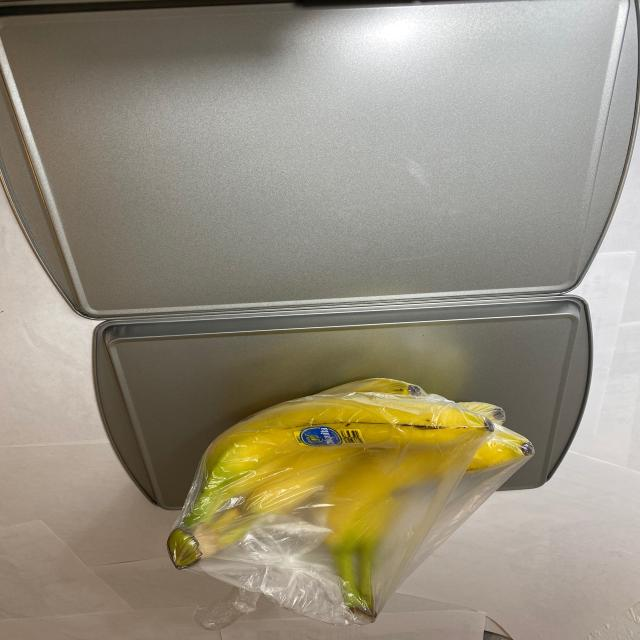banana: (139, 373, 536, 622)
